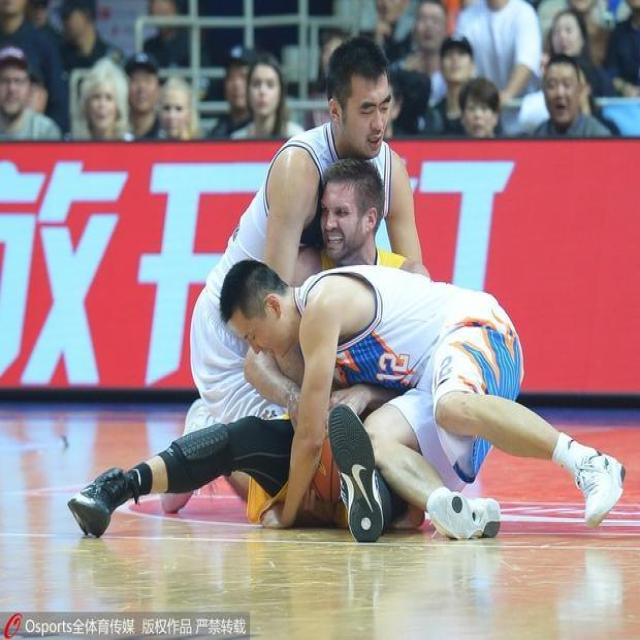10-: (4, 0, 639, 529)
down: (63, 170, 404, 532), (221, 253, 626, 547)
